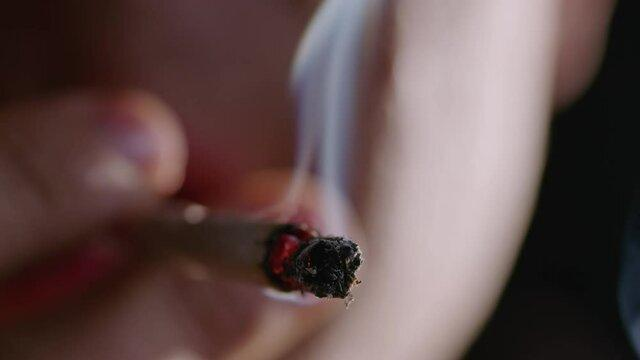Cigarette: (136, 199, 364, 304)
